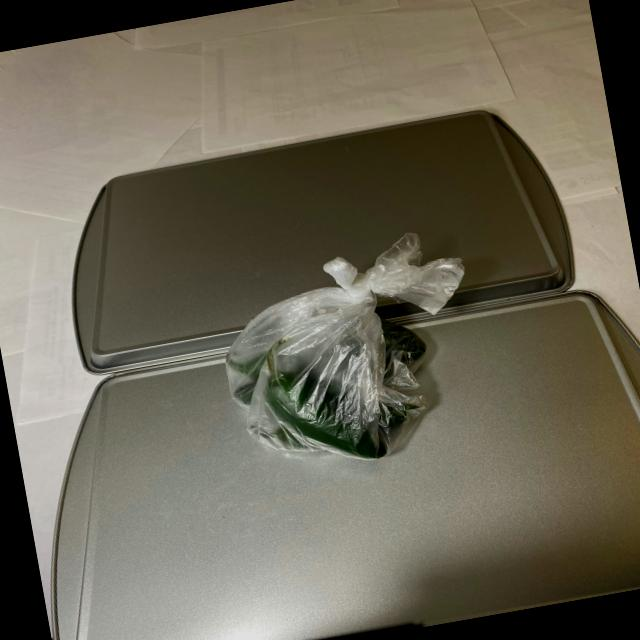chilli: (212, 282, 463, 487)
